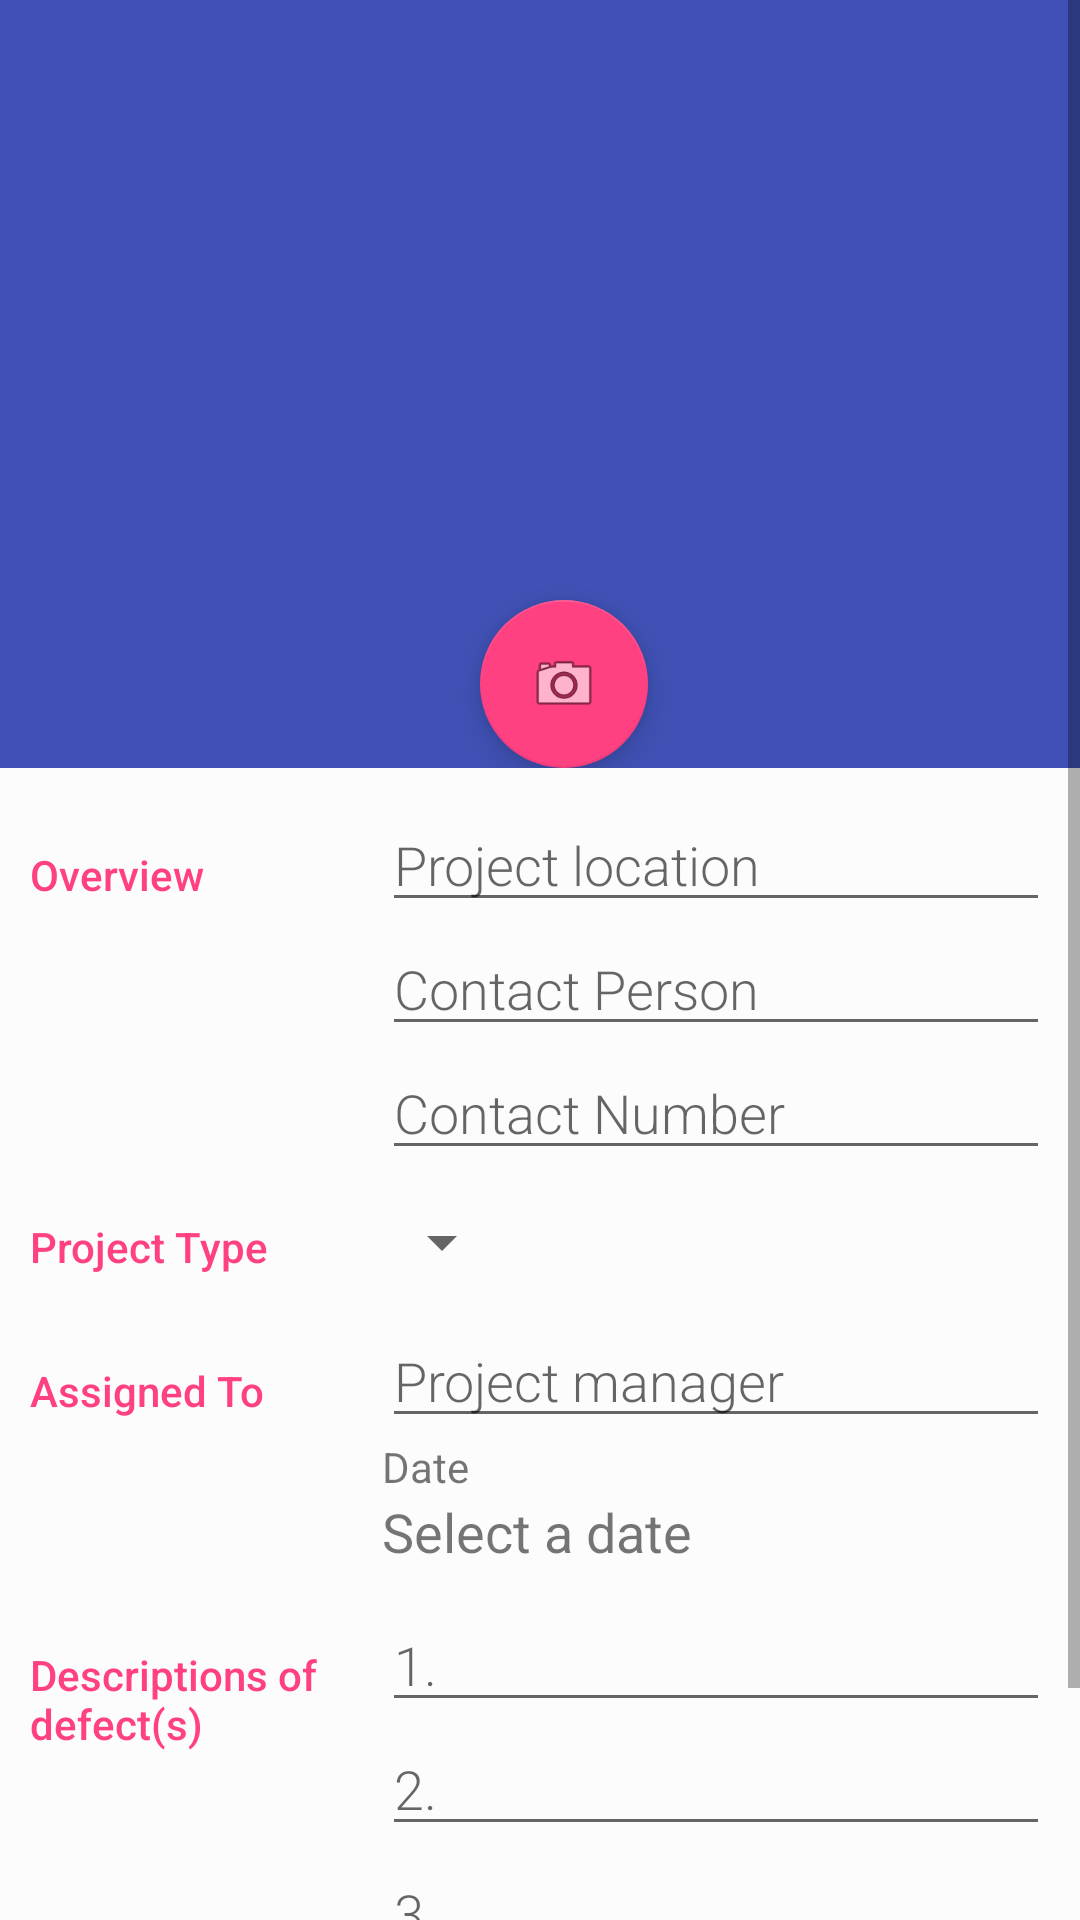

Screen size 1080×1920. Icon name, then its center in pixels as (x=x, y=y):
camera: (x=564, y=684)
